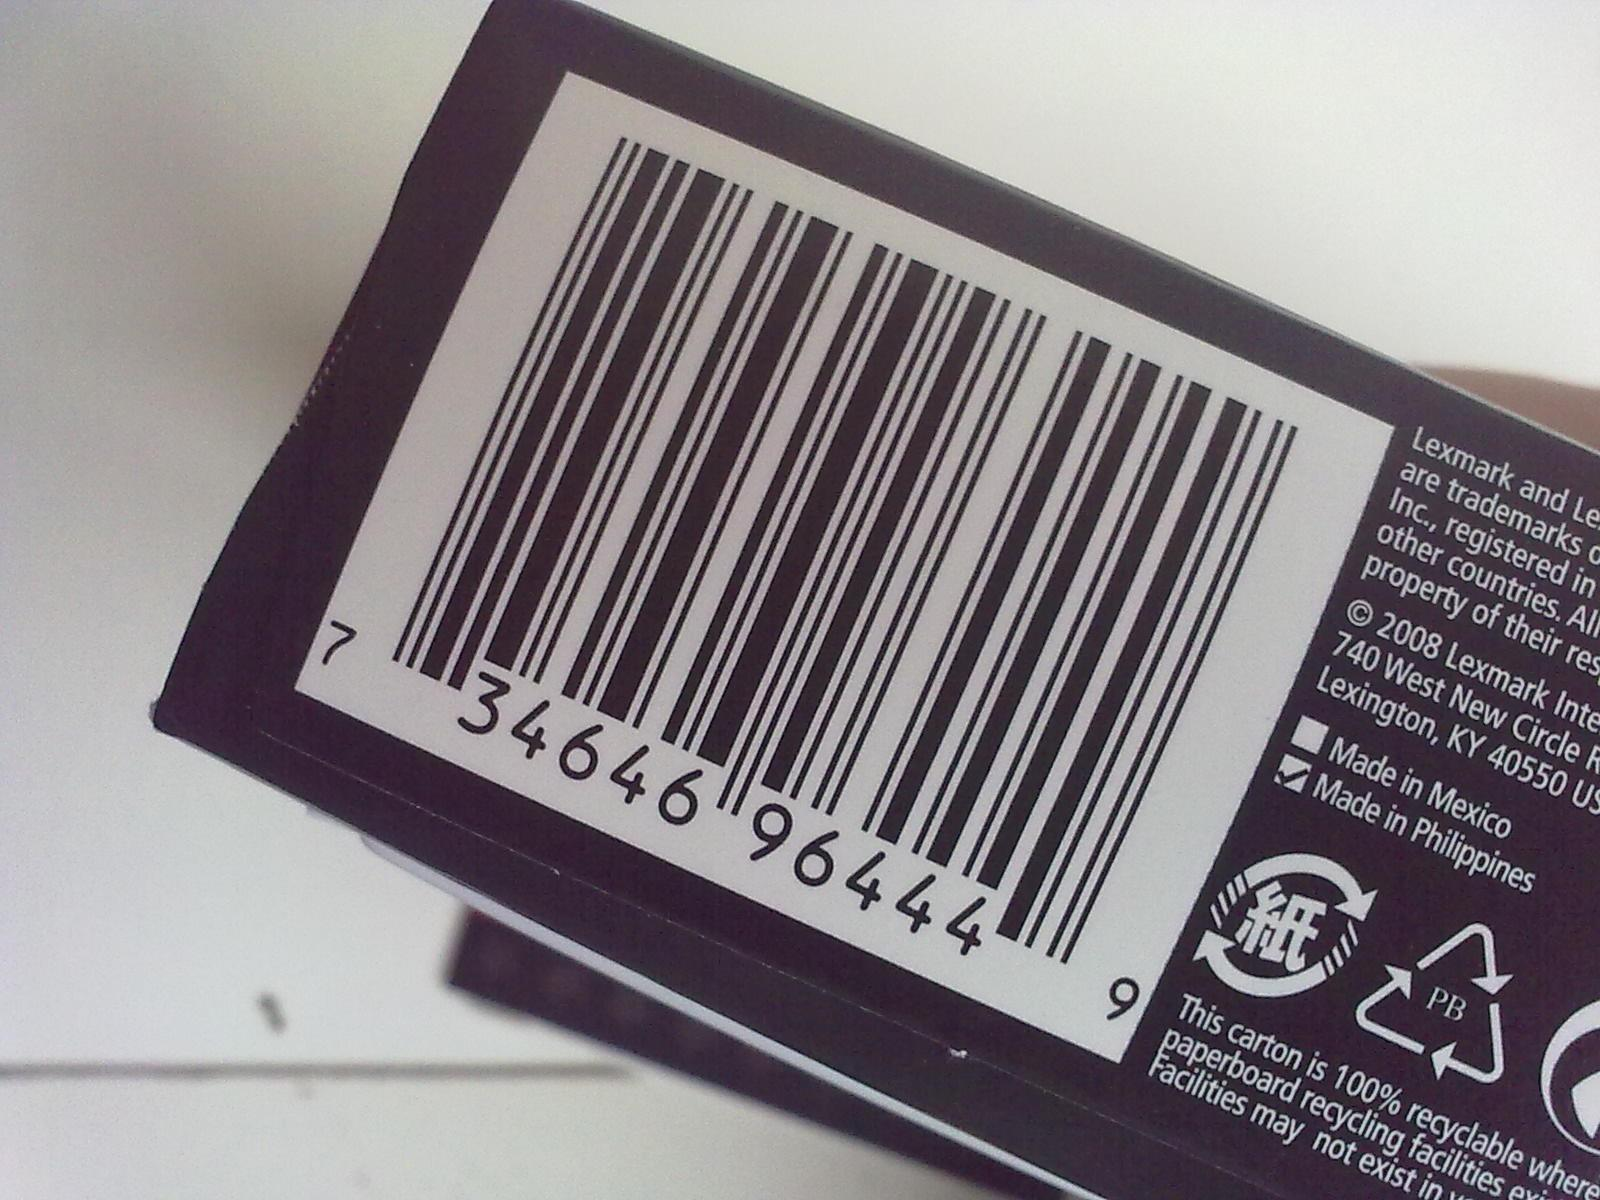Barcode: (311, 120, 1313, 1066)
